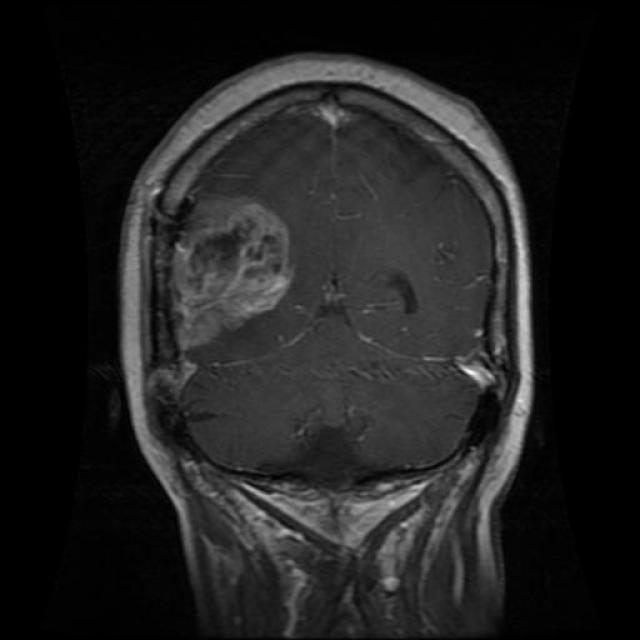glioma: (168, 195, 308, 363)
